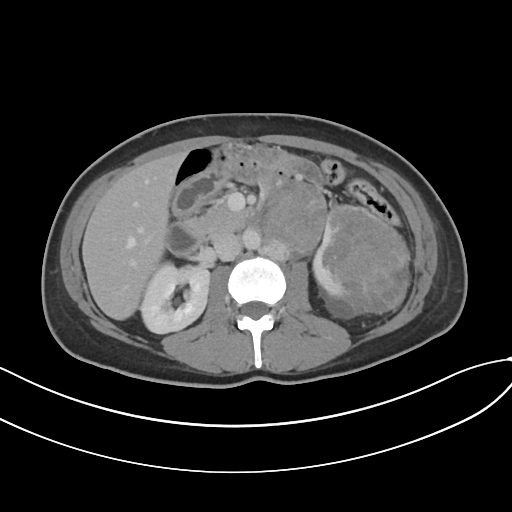Lesion: (324, 207, 412, 297)
